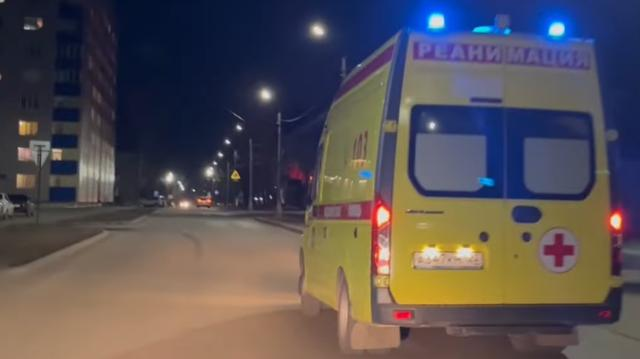intensive care unit: (299, 13, 625, 356)
non emergency car: (194, 196, 212, 208)
